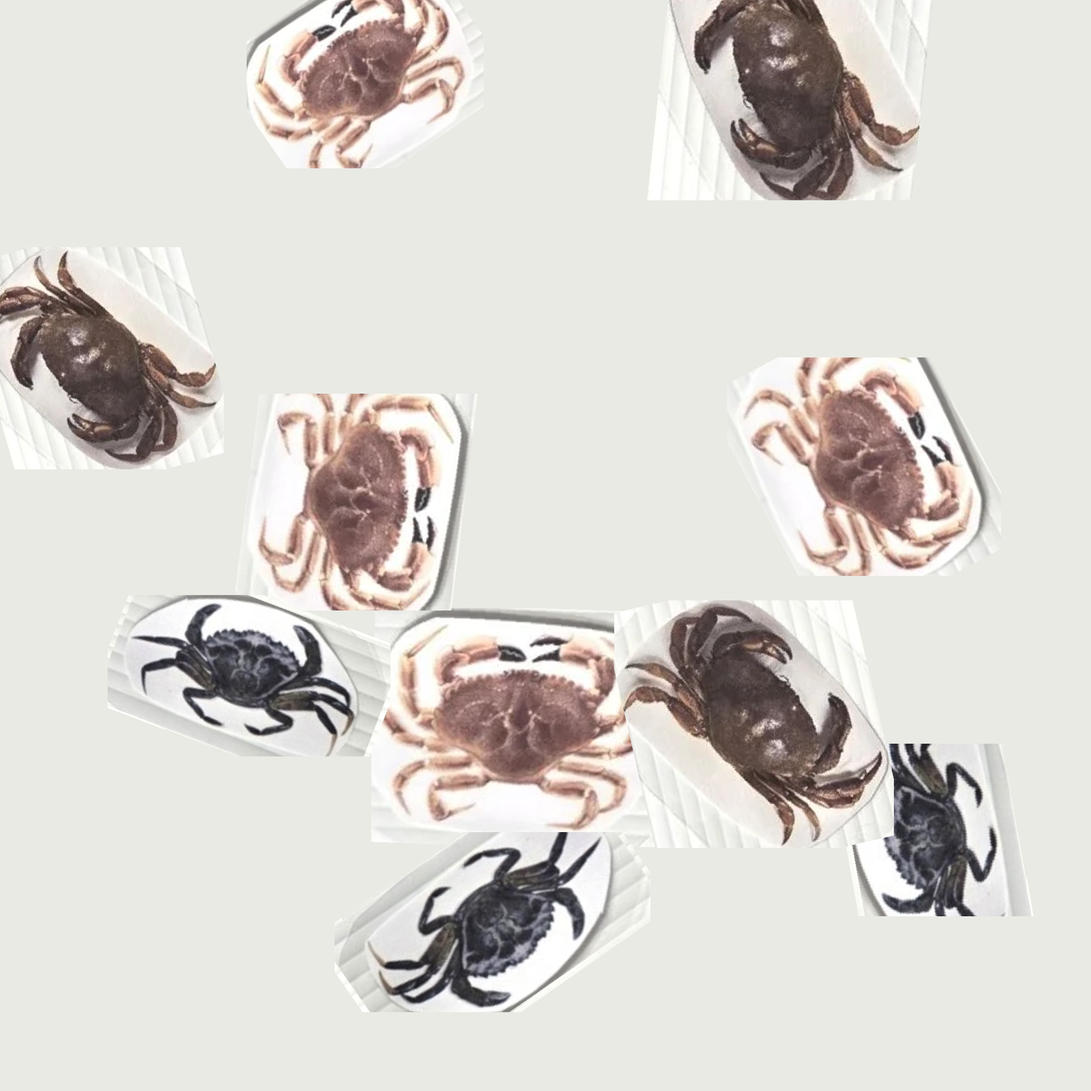evil: (379, 835, 617, 1015), (119, 593, 346, 745), (825, 749, 1020, 911)
normal: (730, 337, 996, 564), (389, 588, 626, 825), (662, 0, 944, 185), (0, 242, 218, 451), (242, 413, 474, 607), (650, 631, 854, 835), (249, 0, 493, 157)
